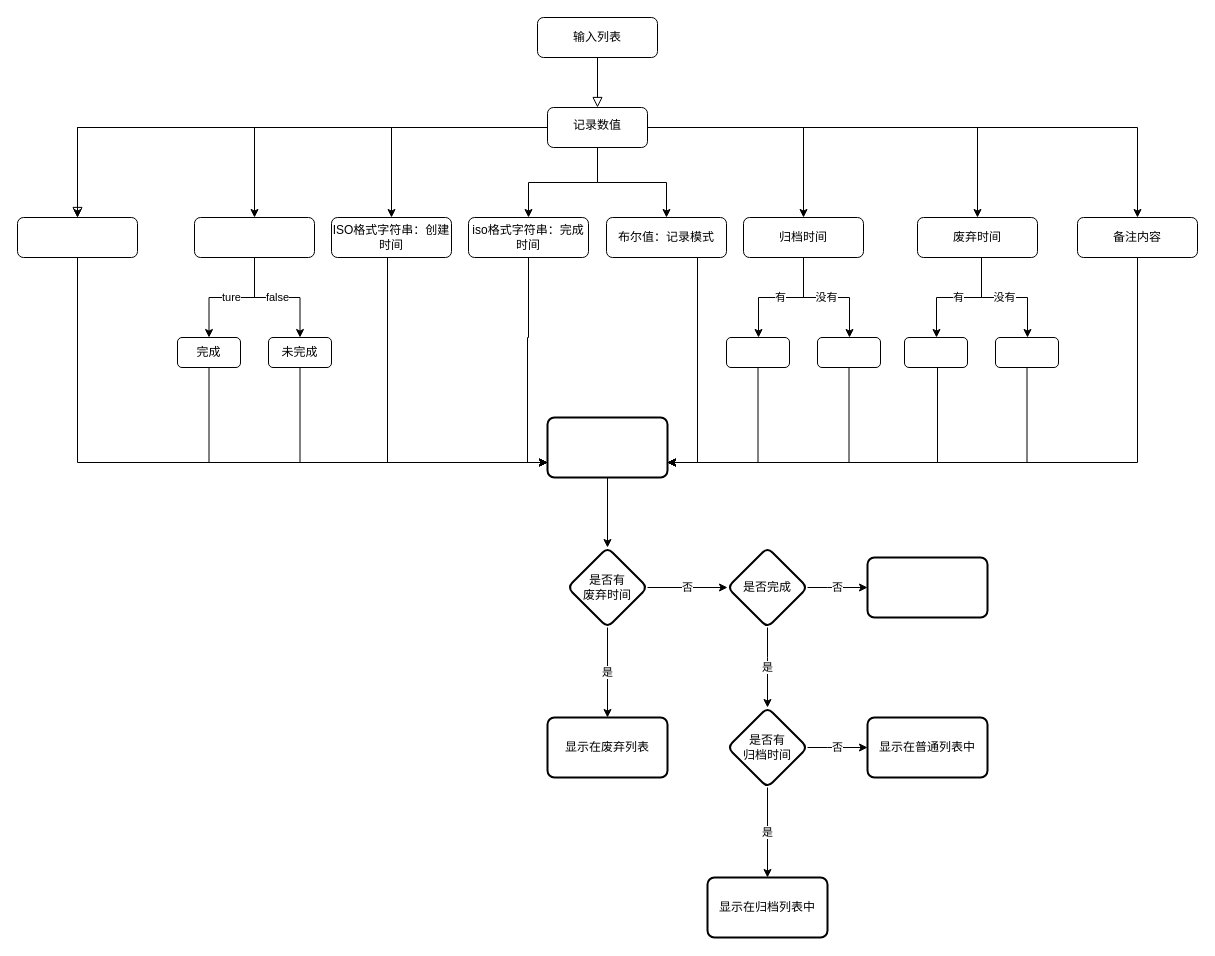
Image size: 1215x956. Some labels were removed from this diagram. The shapes that lost their labels are listed below. From the top down, each one's centre as x and y in pixels, then its label:
the point at 77,237: 文本：记录内容
the point at 254,237: 布尔值：完成状态
the point at 758,352: 被归档
the point at 848,352: 未归档
the point at 936,352: 废弃
the point at 1026,352: 未废弃
the point at 607,447: 显示列表
the point at 927,587: 在普通列表中
